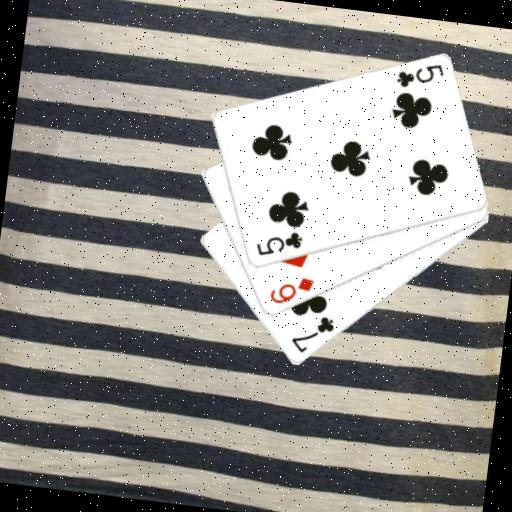5C: (251, 225, 305, 263), (392, 56, 446, 94)
6D: (265, 271, 316, 310)
7C: (287, 310, 338, 359)
